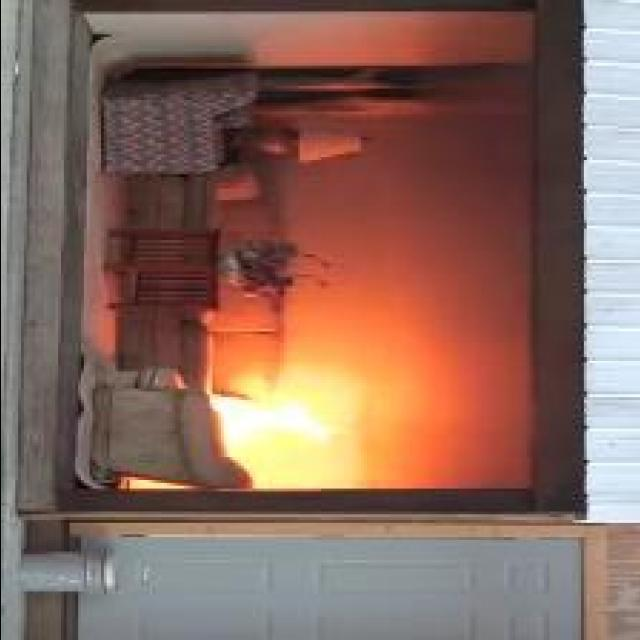Fire: (207, 399, 344, 447)
